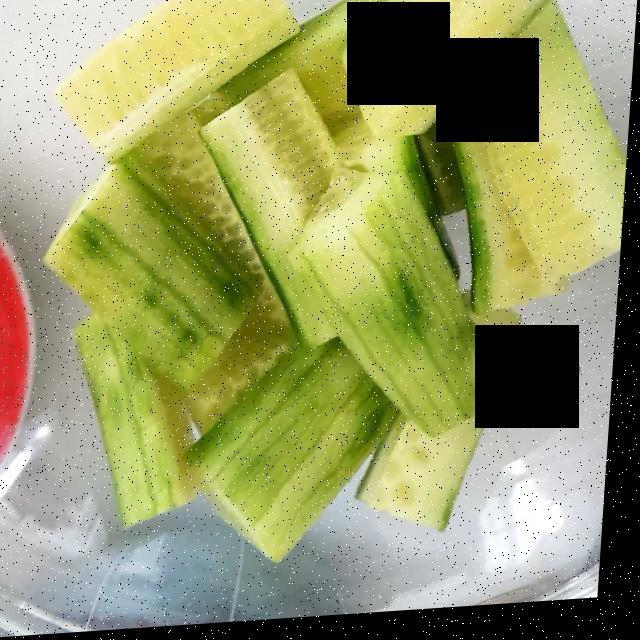cucumber: (29, 1, 639, 577)
